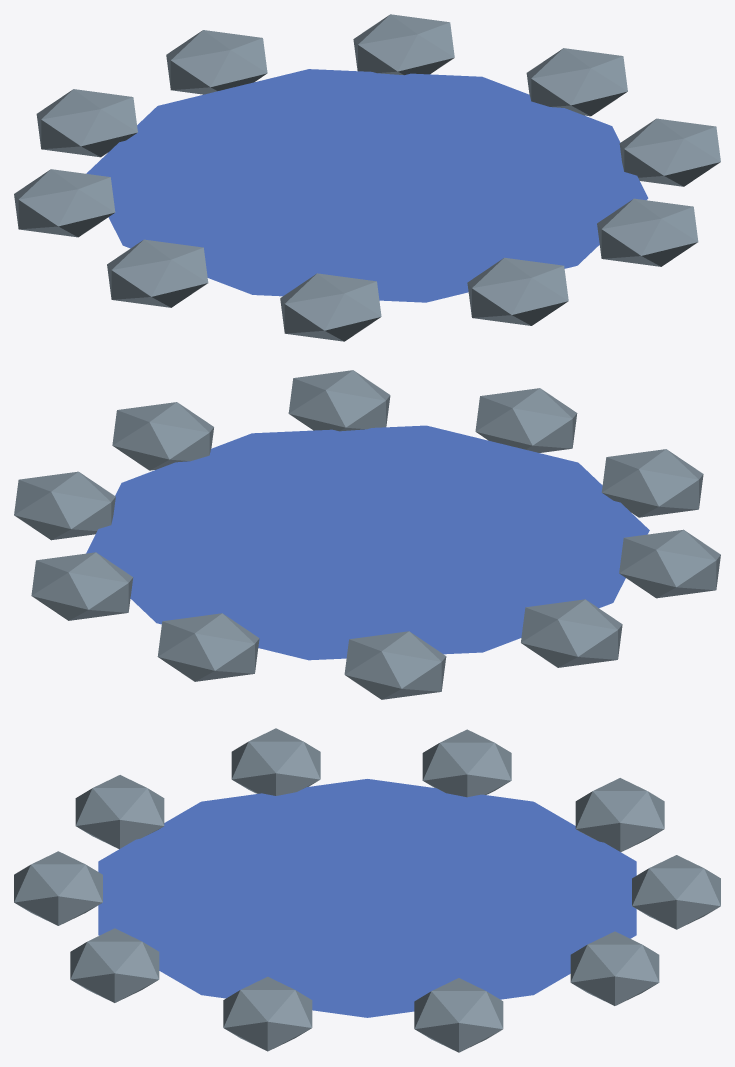
The model's file is pond.glb.
The picture shows the model from 3 angles, top to bottom: view 1: azimuth 30°, elevation 25°; view 2: azimuth 150°, elevation 25°; view 3: azimuth 270°, elevation 25°; orthographic projection.
Visible parts, largest first — view 1: Water, S7, S4, S8, S6, S5, S3, S9, S0, S2, S1; view 2: Water, S2, S3, S4, S1, S5, S6, S0, S9, S7, S8; view 3: Water, S0, S8, S1, S9, S2, S7, S6, S3, S5, S4.
Part boxes in pixels (left/top/right/bottom): Water: left=86, top=69, right=648, bottom=302; S7: left=467, top=257, right=568, bottom=325; S4: left=14, top=169, right=115, bottom=237; S8: left=597, top=198, right=698, bottom=266; S6: left=280, top=273, right=381, bottom=341; S5: left=107, top=239, right=208, bottom=307; S3: left=36, top=89, right=137, bottom=157; S9: left=619, top=118, right=720, bottom=186; S0: left=526, top=48, right=627, bottom=116; S2: left=166, top=30, right=267, bottom=94; S1: left=353, top=14, right=454, bottom=75; Water: left=86, top=425, right=649, bottom=660; S2: left=157, top=613, right=259, bottom=681; S3: left=344, top=631, right=446, bottom=699; S4: left=521, top=599, right=622, bottom=667; S1: left=31, top=552, right=133, bottom=620; S5: left=619, top=529, right=720, bottom=598; S6: left=601, top=449, right=703, bottom=517; S0: left=14, top=471, right=115, bottom=540; S9: left=112, top=402, right=213, bottom=470; S7: left=475, top=388, right=577, bottom=452; S8: left=288, top=370, right=390, bottom=431; Water: left=98, top=779, right=636, bottom=1017; S0: left=414, top=978, right=503, bottom=1052; S8: left=70, top=928, right=159, bottom=1002; S1: left=570, top=931, right=659, bottom=1005; S9: left=223, top=976, right=312, bottom=1051; S2: left=632, top=855, right=720, bottom=929; S7: left=14, top=851, right=102, bottom=925; S6: left=75, top=775, right=164, bottom=848; S3: left=575, top=778, right=664, bottom=851; S5: left=231, top=728, right=320, bottom=795; S4: left=422, top=729, right=511, bottom=797.
Size of the model in its own units: 3.2 by 0.245 by 3.25.
